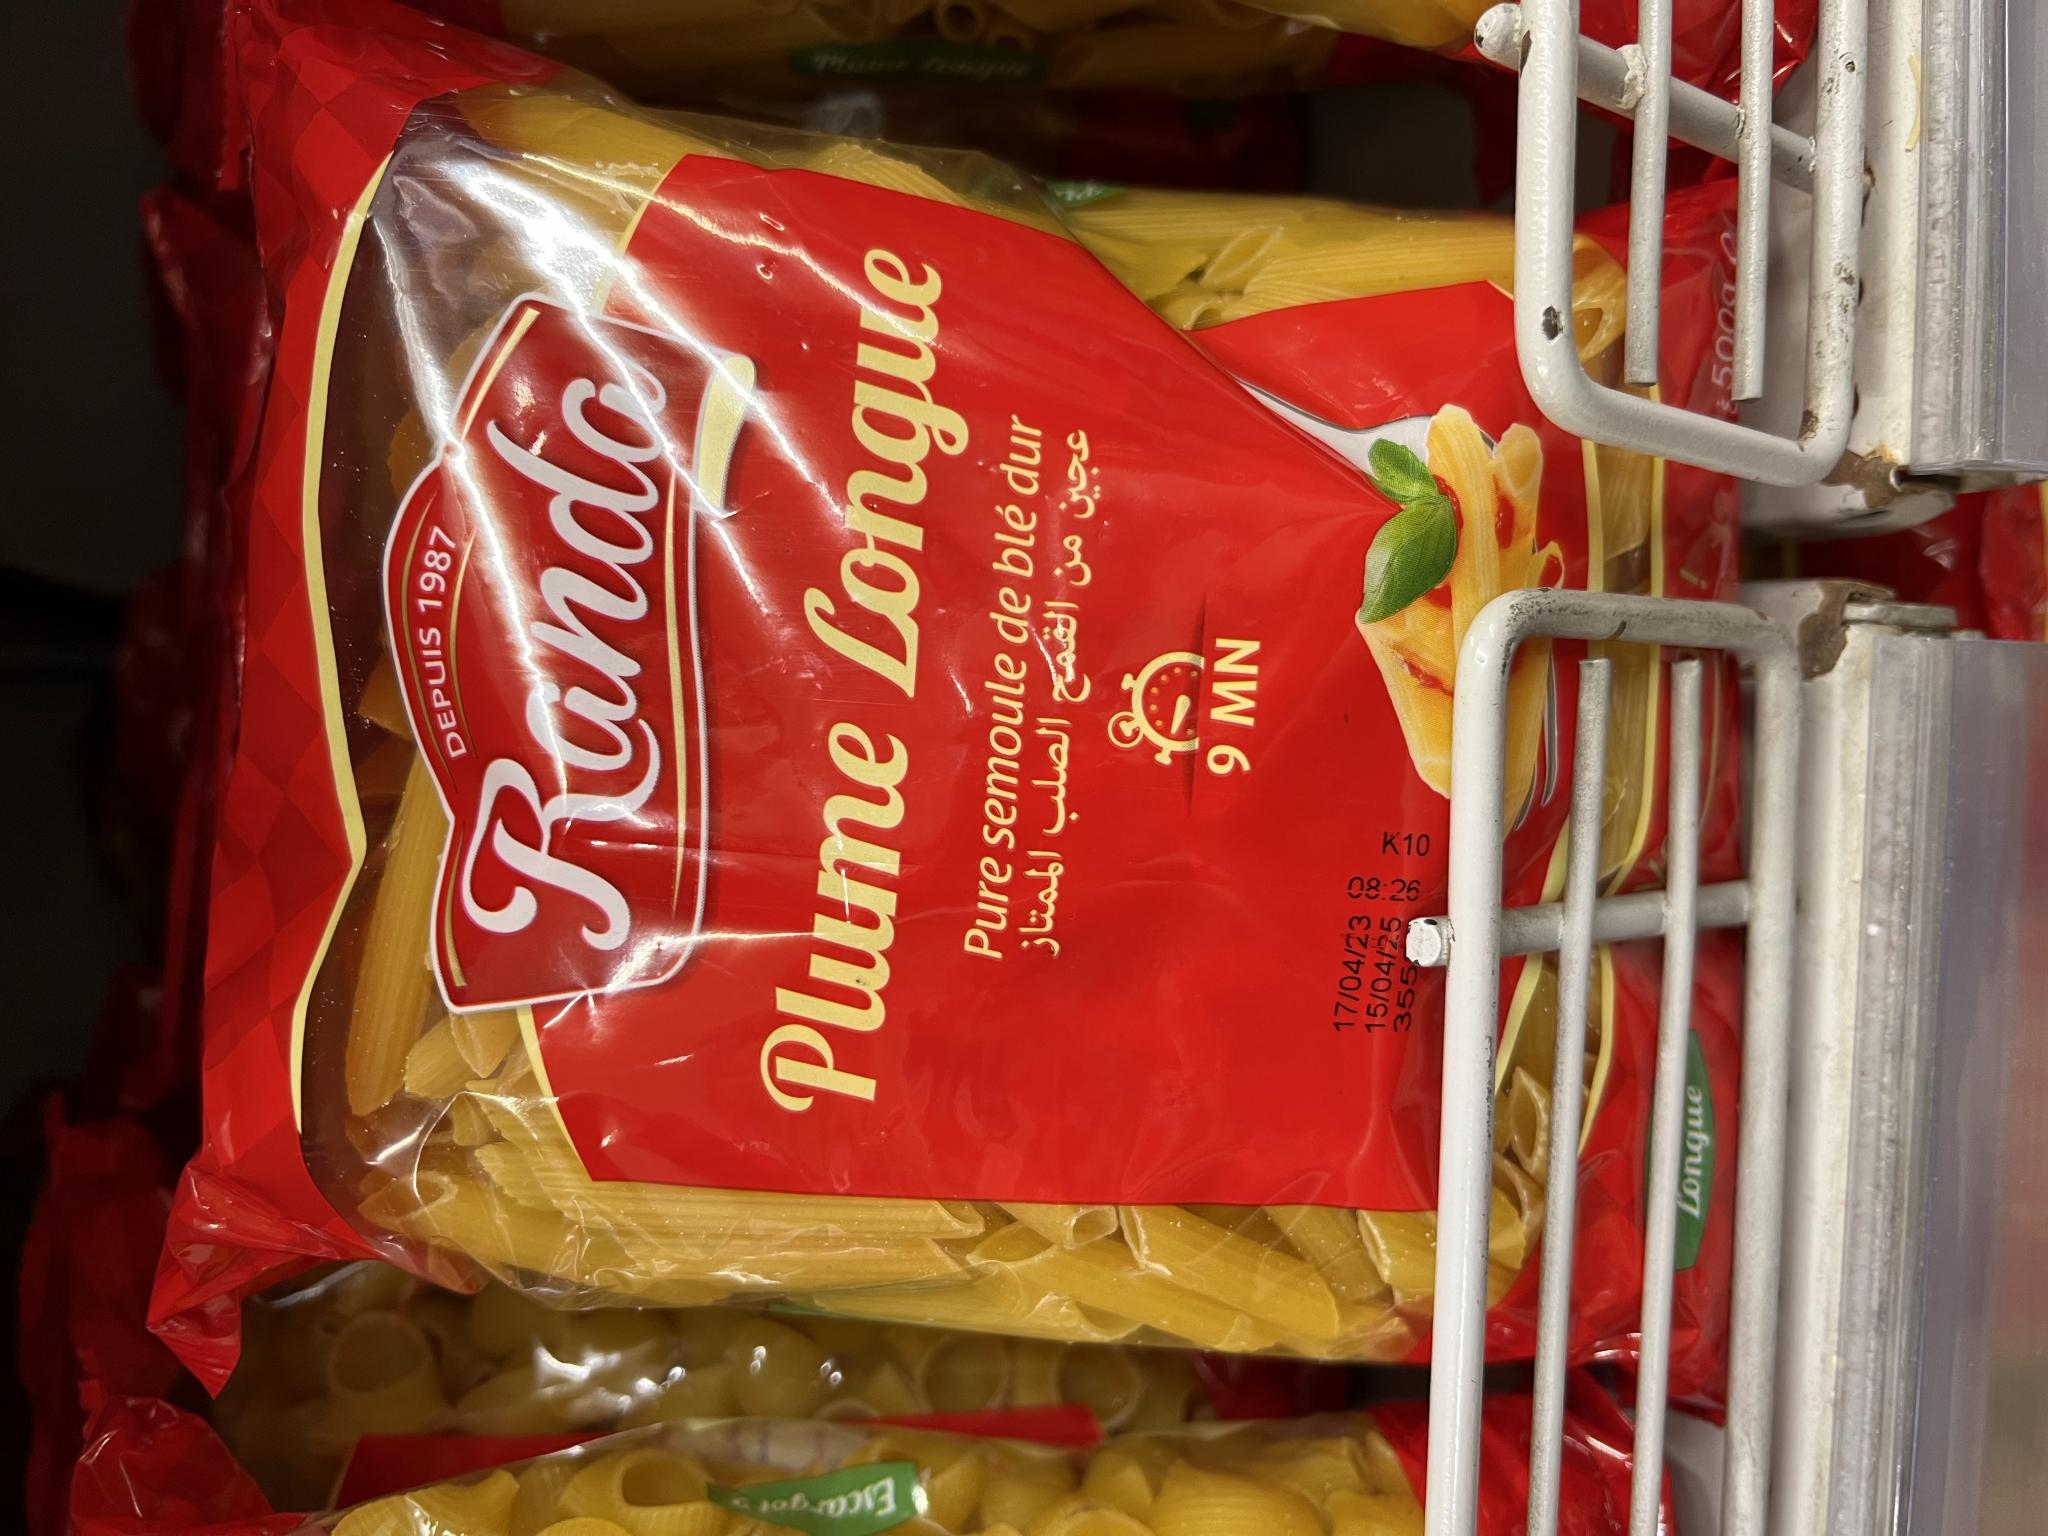plume: (211, 26, 1717, 1350)
